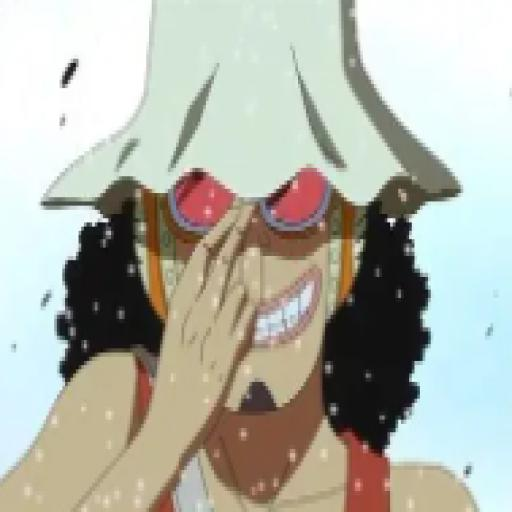Usopp: (0, 0, 496, 512)
